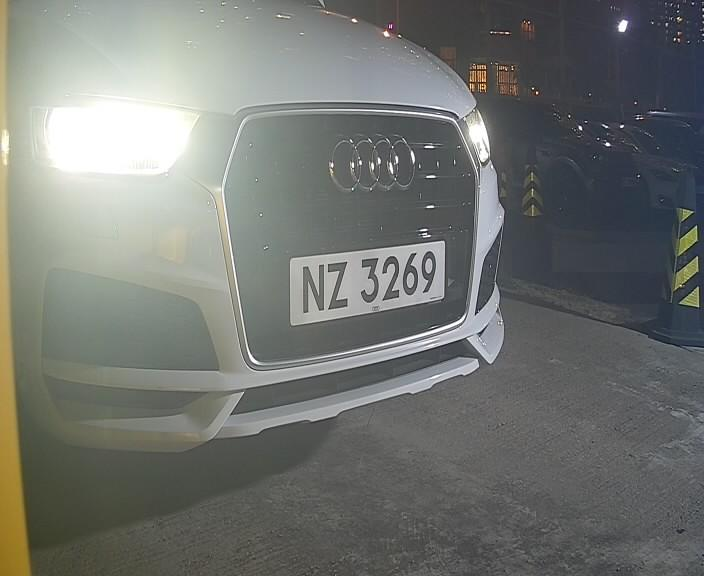Car: (1, 29, 585, 479)
License Plate: (277, 232, 450, 330)
